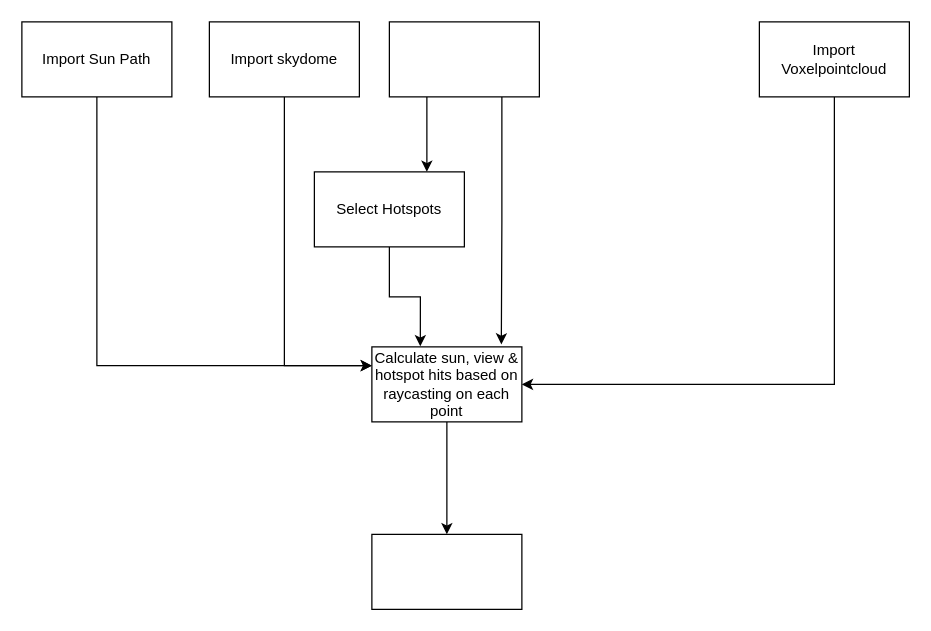
Image size: 931x631. Some labels were removed from this diagram. Here are the shapes that lost their labels. From the top down, the centre of each, then its label:
(x=463, y=59): Import city data
(x=446, y=571): Normalize all values
